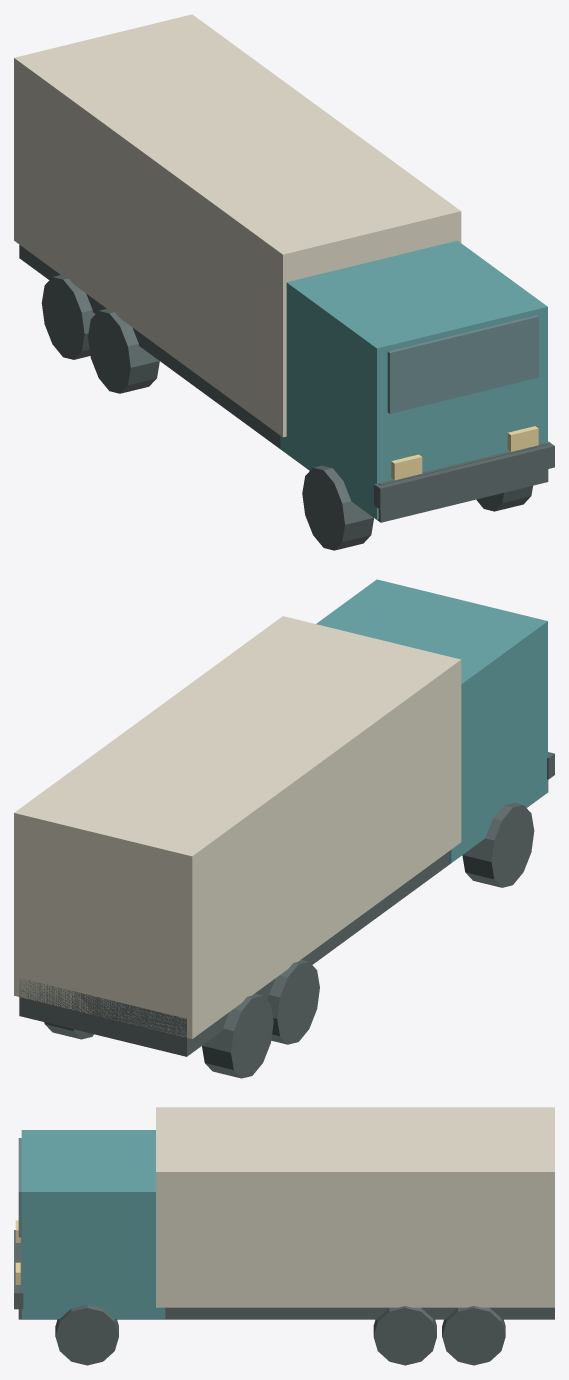
3 renders of one model, top to bottom at view 1: azimuth 30°, elevation 25°; view 2: azimuth 150°, elevation 25°; view 3: azimuth 270°, elevation 25°, orthographic. The views are drawn at different scales.
Size of the model in its own units: 2.6 by 3.39 by 8.68.
